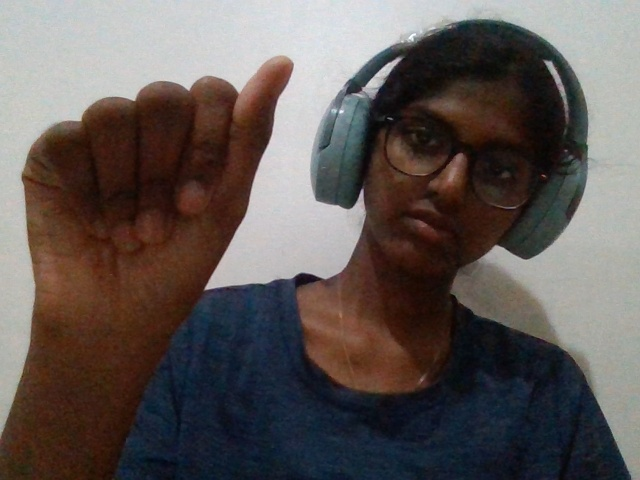A: (2, 45, 310, 427)
